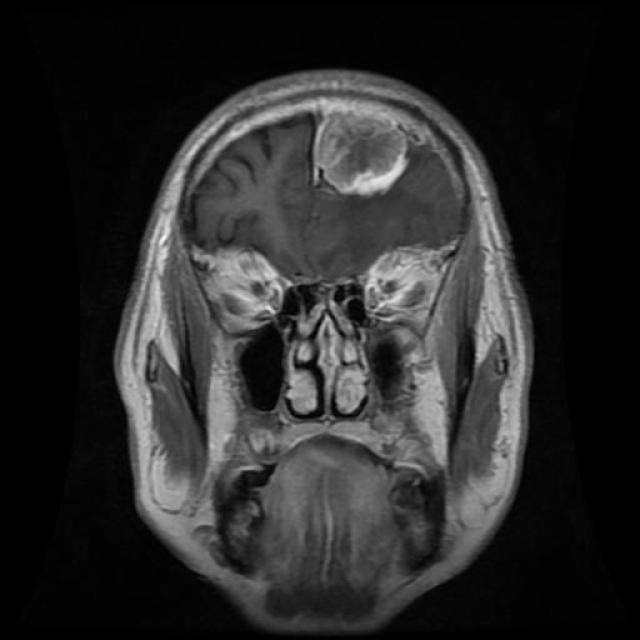meningioma: (303, 99, 414, 218)
